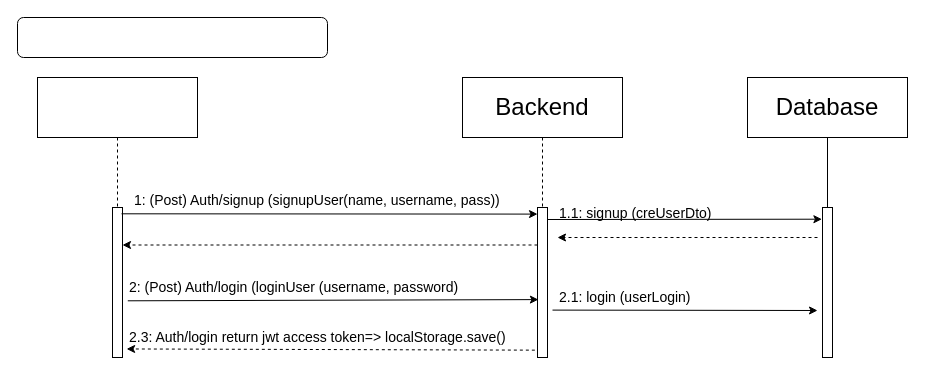
Image size: 925x376. Some labels were removed from this diagram. The shapes that lost their labels are listed below. From the top down, each one's centre as x and y in pixels, then its label:
At point (172, 37): "Auth".
At point (117, 107): "Frontend".
